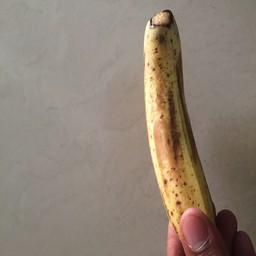Banana Ripe: (125, 4, 236, 224)
